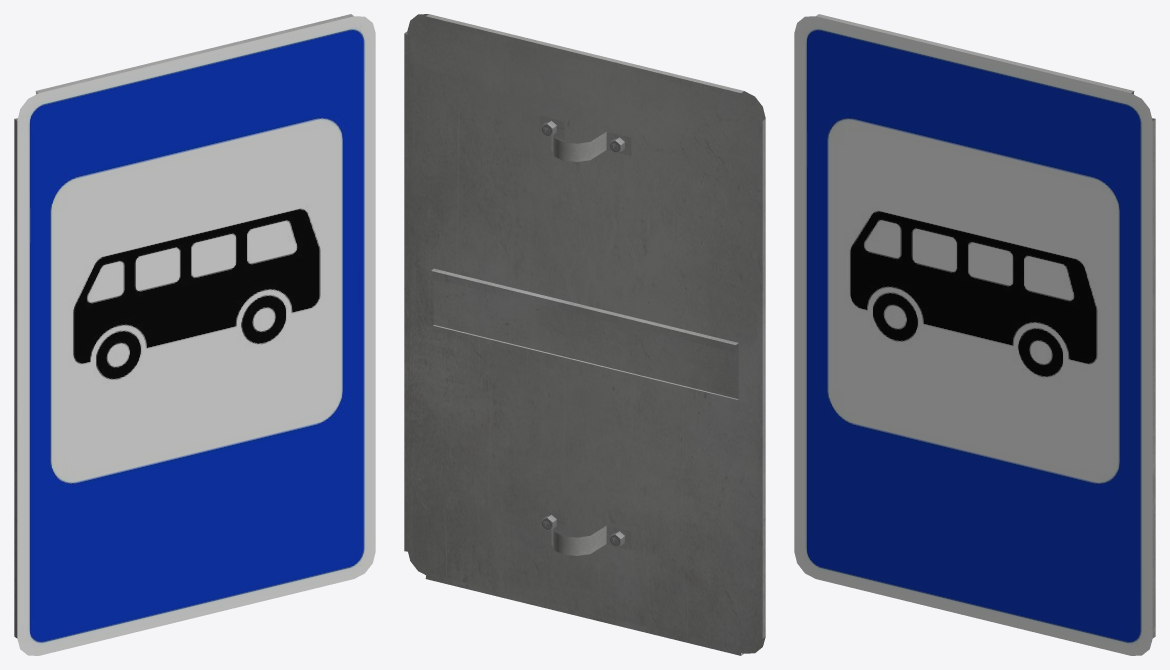
The model's file is sign_5.glb.
The picture shows the model from 3 angles, left to right: view 1: azimuth 30°, elevation 25°; view 2: azimuth 150°, elevation 25°; view 3: azimuth 330°, elevation 25°; orthographic projection.
Parts seen in each view (by area): view 1: sign_5; view 2: sign_5; view 3: sign_5.
Part boxes in pixels (box(x1,y1,x2,y2)): sign_5: box(14, 14, 375, 655); sign_5: box(404, 14, 765, 655); sign_5: box(794, 14, 1155, 655).
Size of the model in its own units: 2 by 3 by 0.2205.
2 materials, 2 textured.
